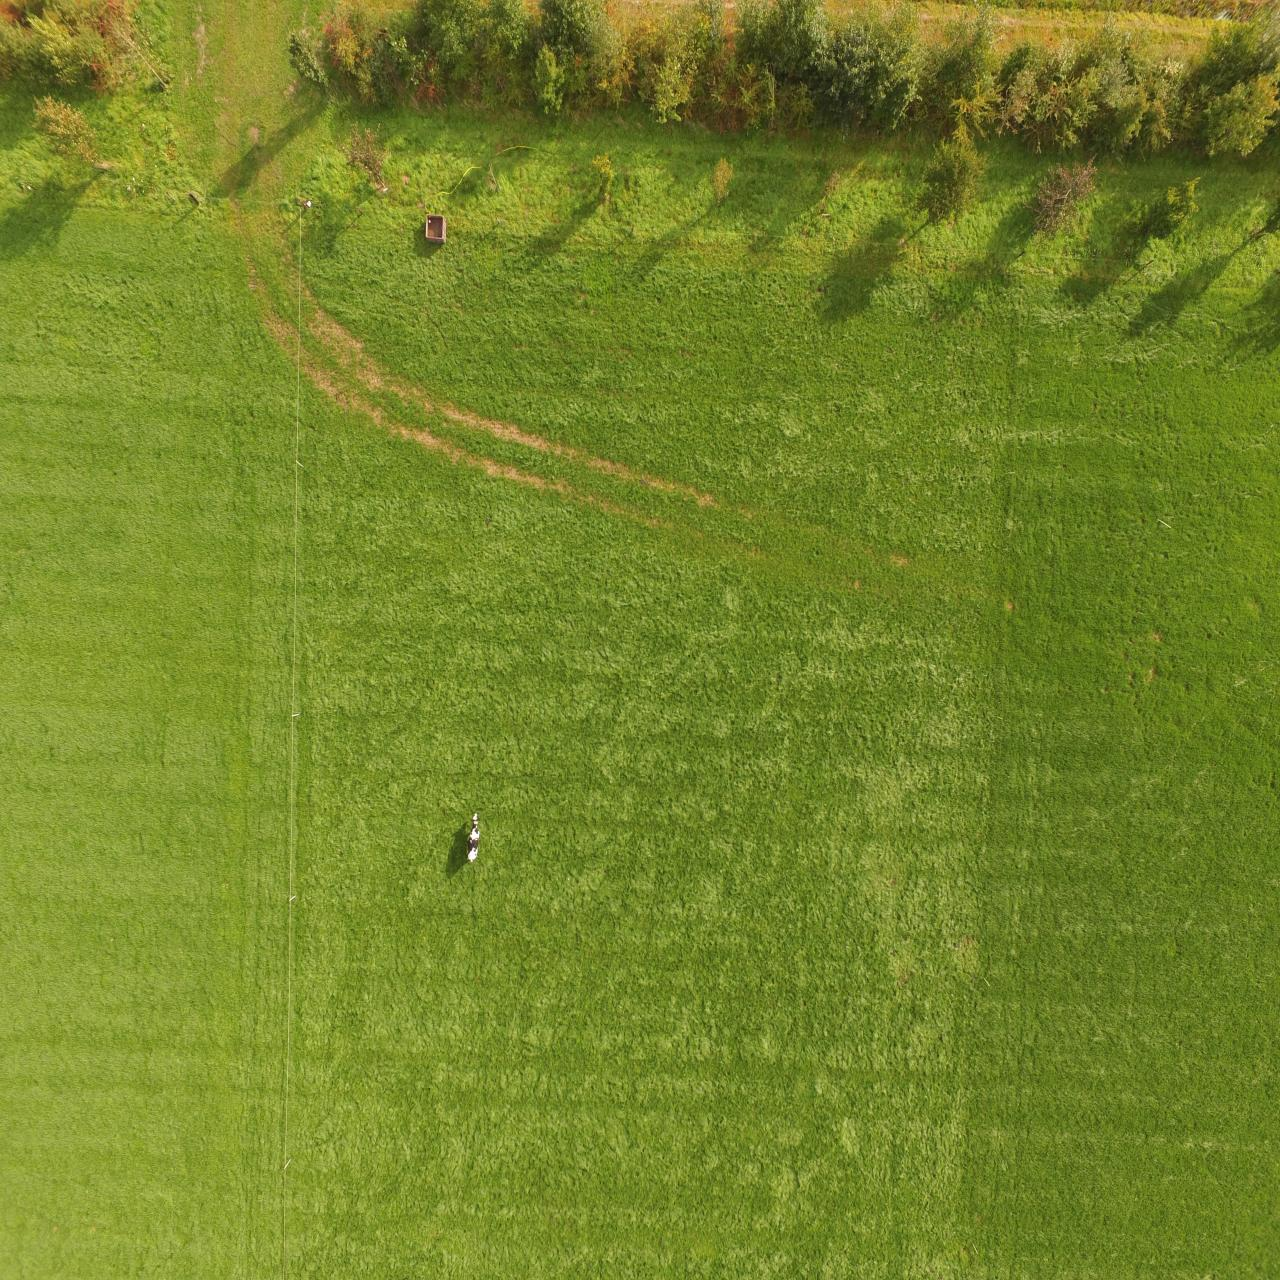cow: (467, 810, 483, 863)
